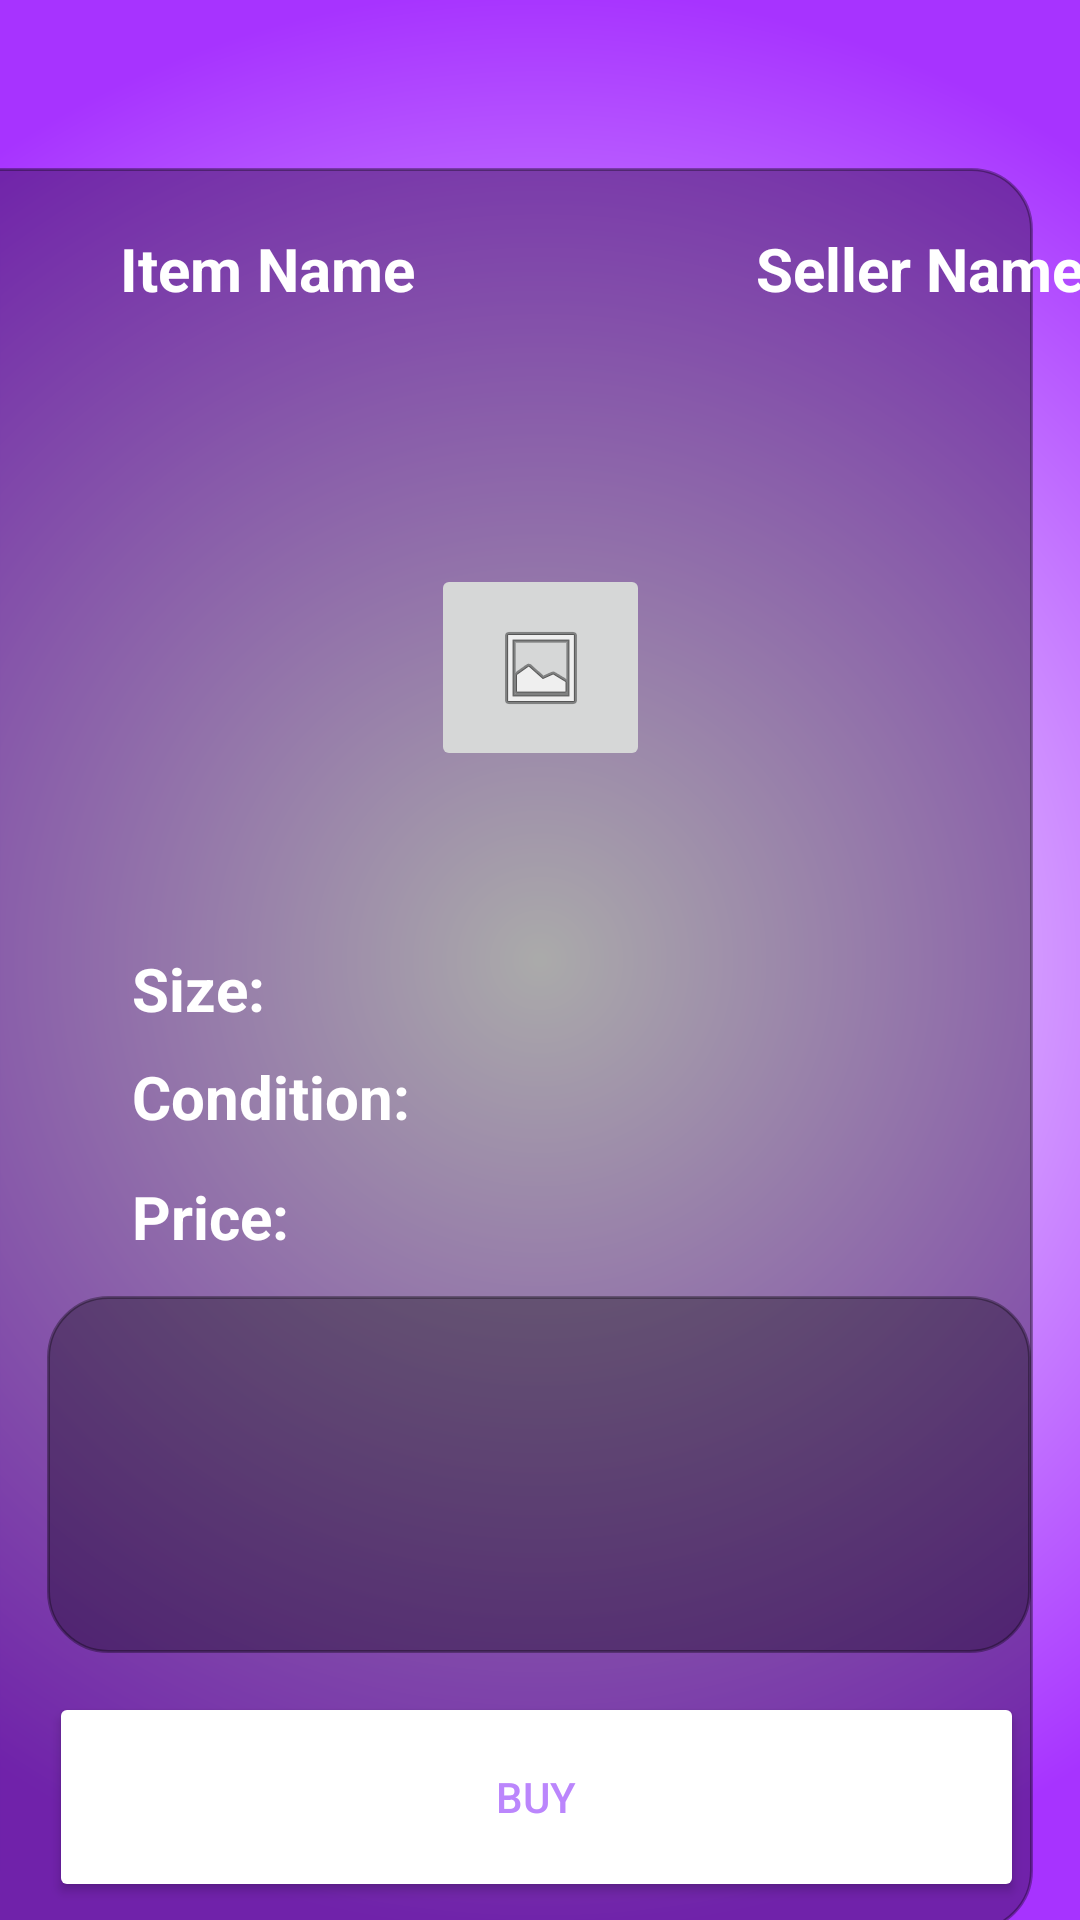

Point at icon controls on the screen. Image size 1080px x 1920px, points as (x=x, y=y).
gallery: (x=540, y=676)
